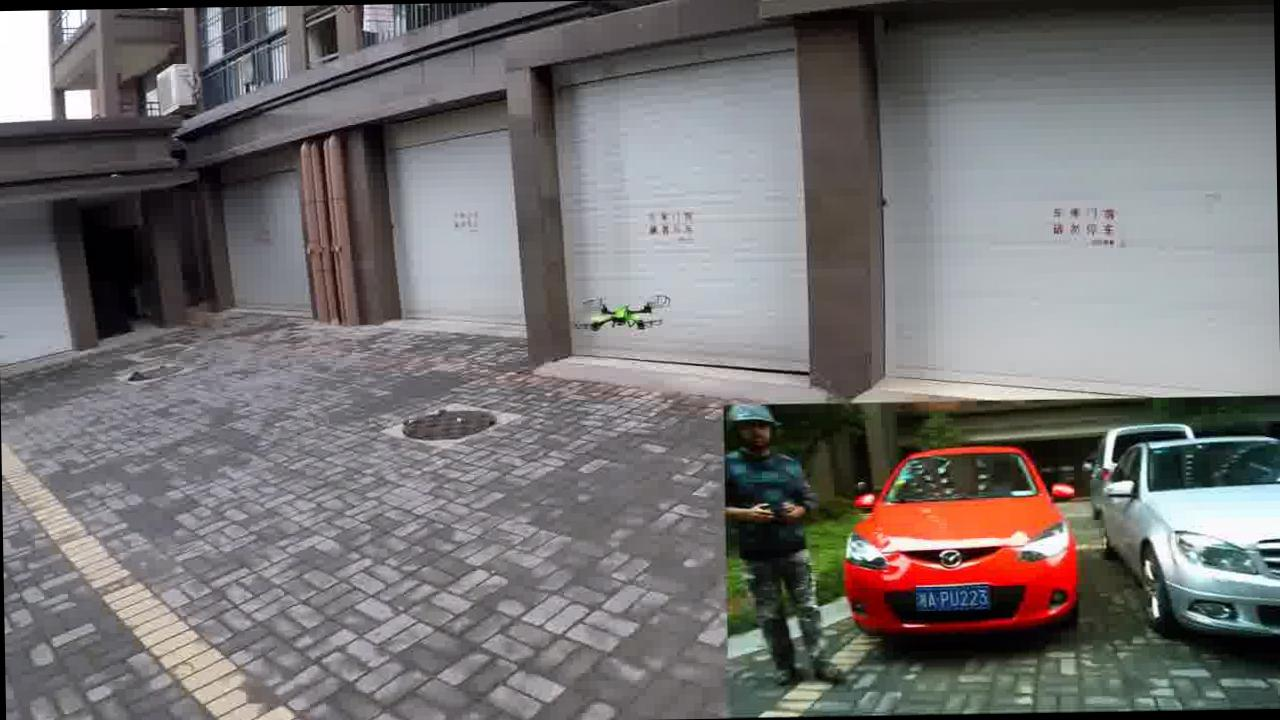drone: (566, 290, 674, 334)
